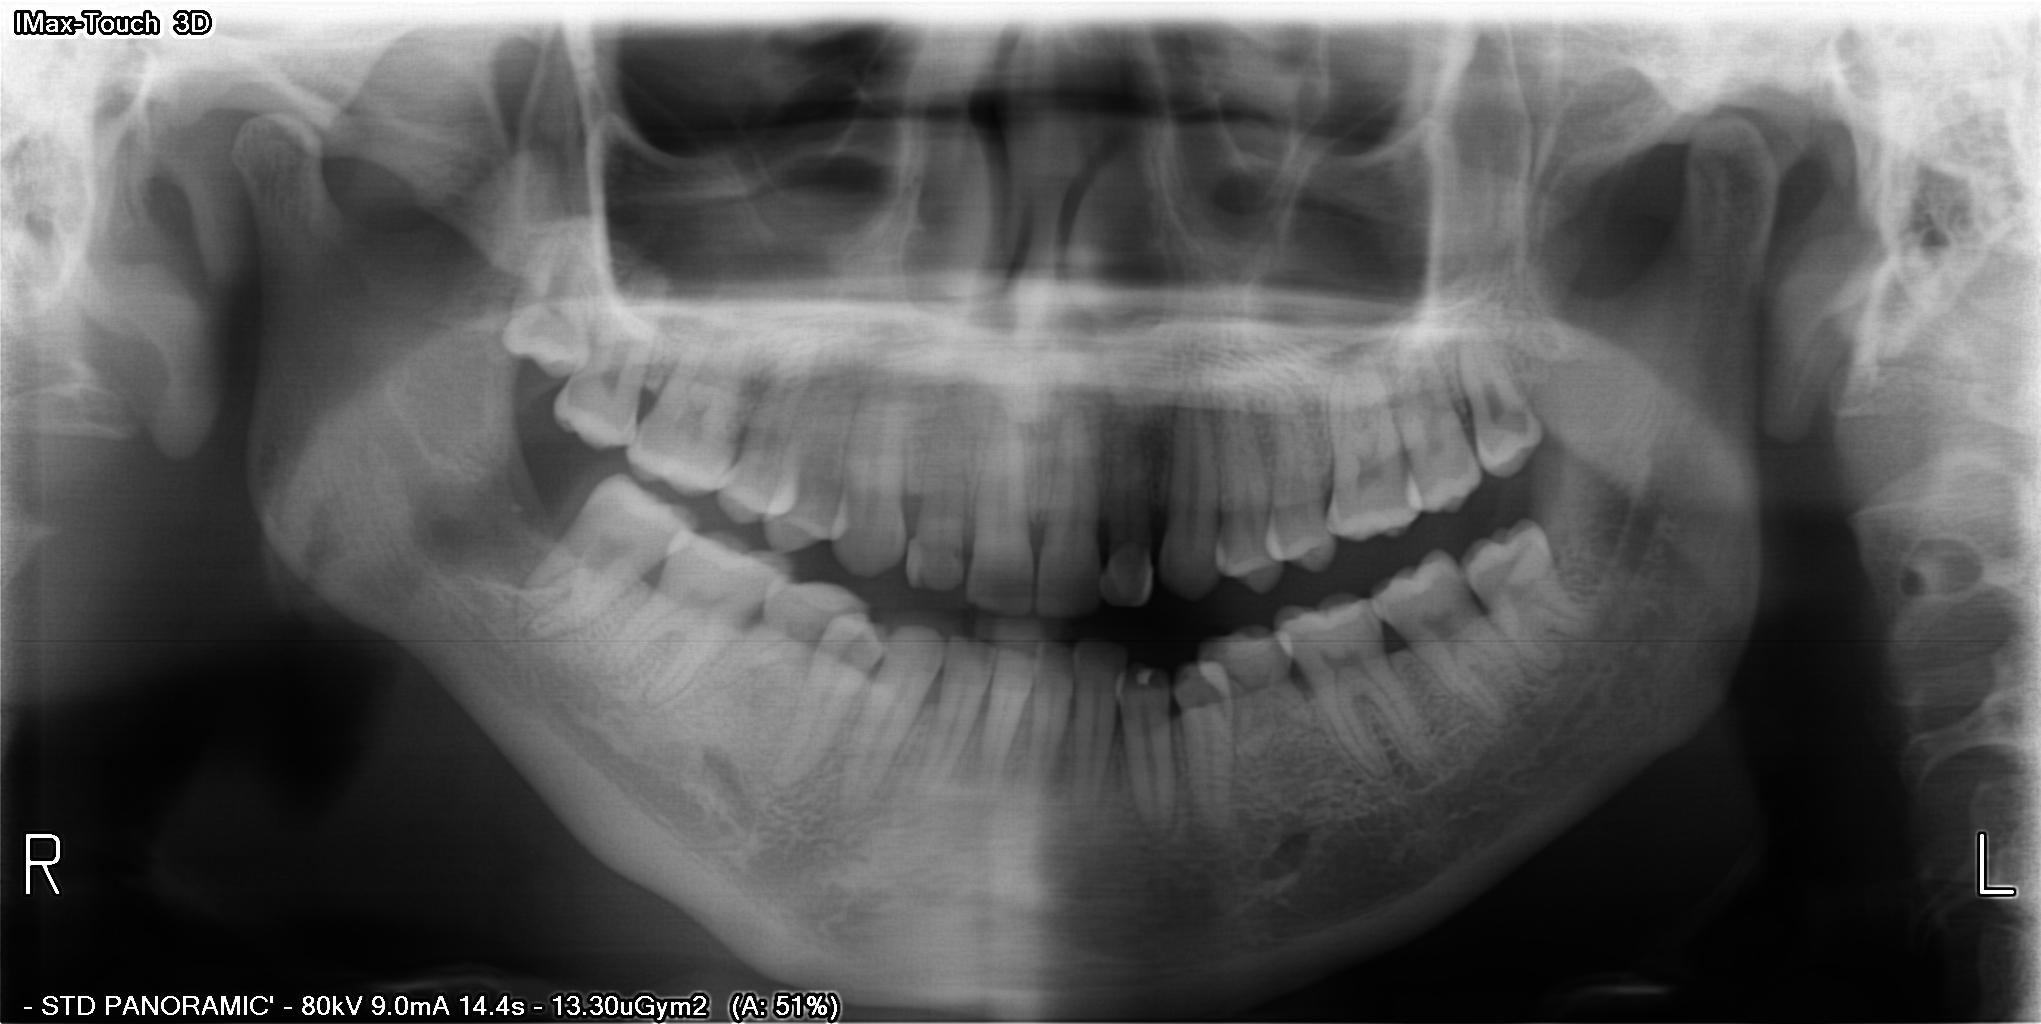Çürük Bölgesi: (1165, 664, 1231, 707), (1507, 410, 1531, 439), (916, 573, 930, 592)
